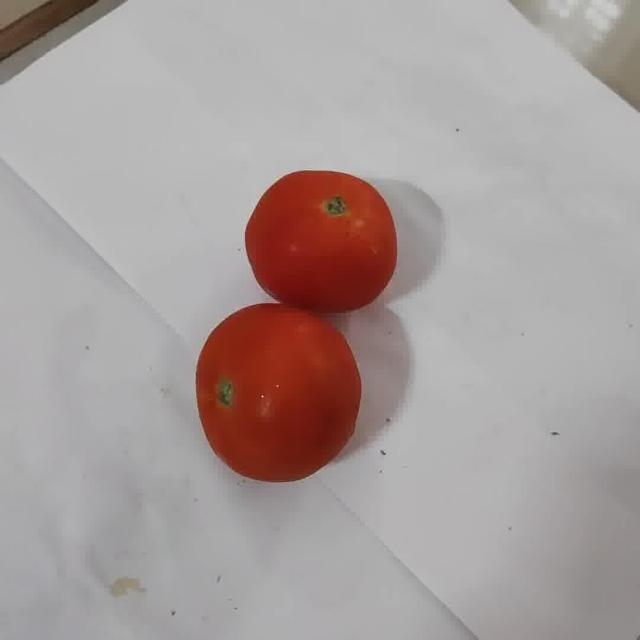Tomato: (196, 303, 360, 482), (245, 171, 397, 313)
